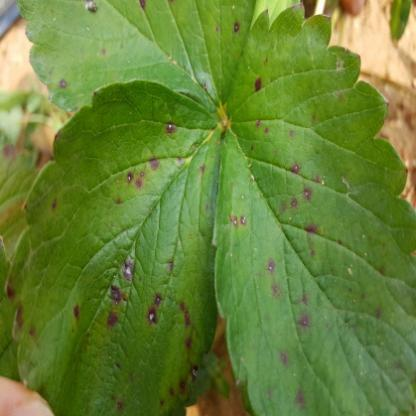Strawberry_Leaf_Spot: (209, 2, 415, 416), (4, 77, 225, 415), (15, 0, 259, 125)
